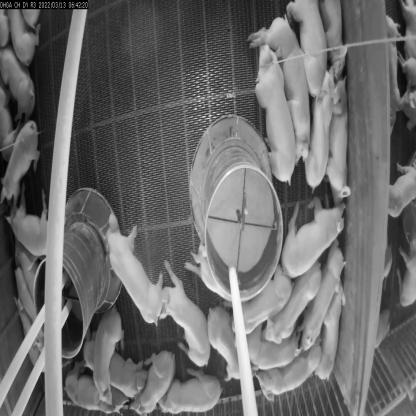Pig: (256, 11, 310, 172), (104, 215, 167, 335), (158, 247, 213, 378), (255, 45, 299, 190), (280, 196, 353, 278), (294, 58, 334, 193), (226, 266, 293, 338), (299, 238, 337, 358), (263, 263, 318, 342), (86, 335, 148, 405), (286, 0, 326, 108), (209, 308, 257, 397), (0, 186, 59, 256), (254, 340, 322, 398), (88, 299, 126, 400), (156, 364, 229, 415), (0, 116, 40, 209), (127, 348, 180, 416), (326, 73, 352, 204), (0, 48, 42, 125), (64, 361, 122, 416), (315, 278, 341, 388), (180, 244, 226, 306), (316, 0, 349, 85), (240, 331, 304, 367), (380, 157, 415, 218), (10, 245, 42, 295)
